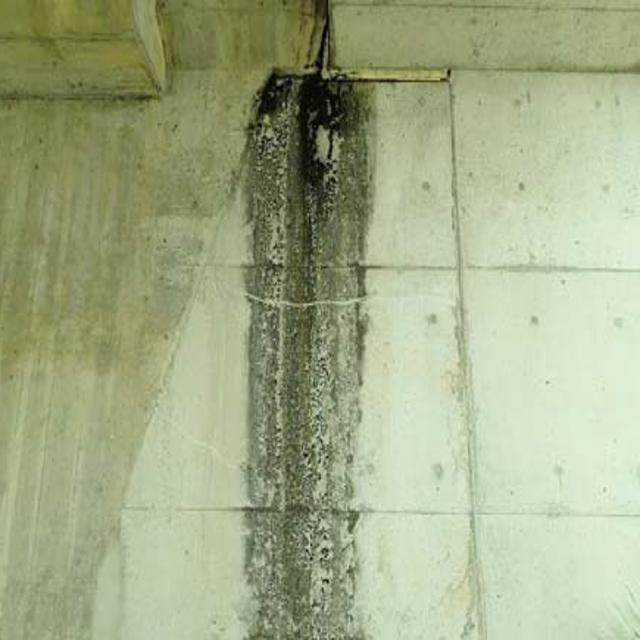leakage: (231, 47, 380, 640)
